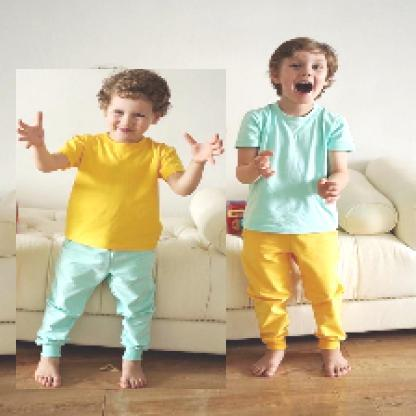child: (17, 70, 228, 391), (234, 38, 357, 380)
